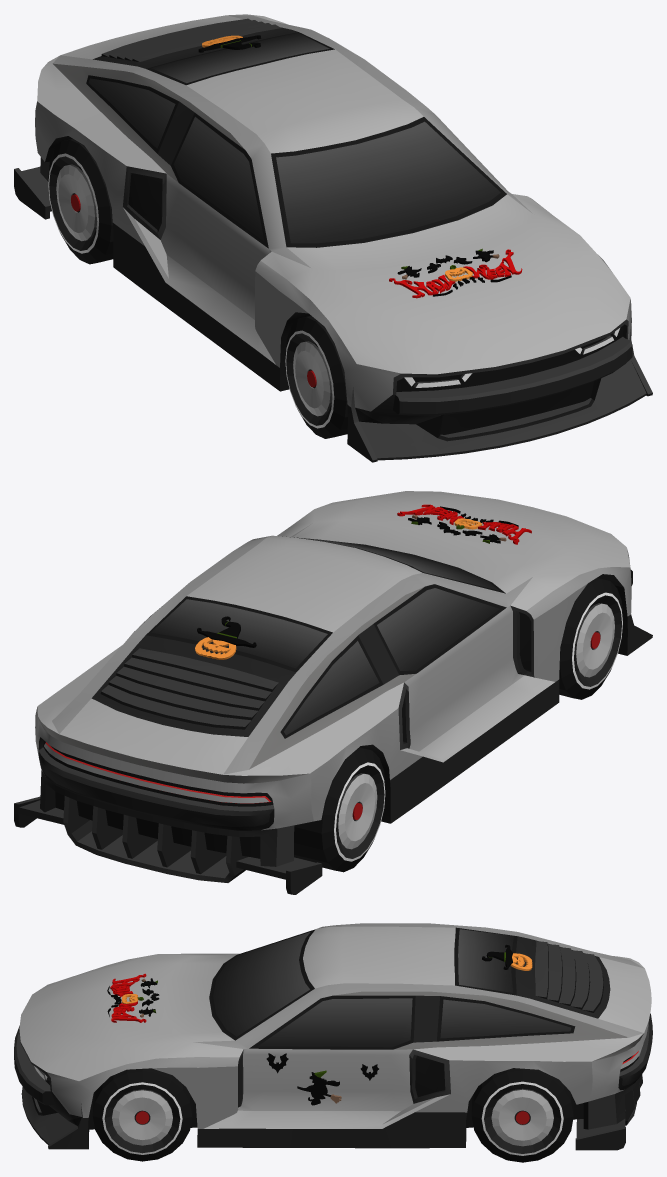
The model's file is car6 (1).fbx.
3 views of the same model, one above another, from view 1: azimuth 30°, elevation 25°; view 2: azimuth 150°, elevation 25°; view 3: azimuth 270°, elevation 25° (orthographic). The views are drawn at different scales.
Parts seen in each view (by area): view 1: Happy_Halloween_07_Halloween_props1_0, RearRightWheel_TextureAtlas_0_1, FrontRightWheel_TextureAtlas_0; view 2: Happy_Halloween_07_Halloween_props1_0, RearRightWheel_TextureAtlas_0_1, FrontRightWheel_TextureAtlas_0; view 3: Happy_Halloween_07_Halloween_props1_0, RearLeftWheel_TextureAtlas_0_1, FrontLeftWheel_TextureAtlas_0_1.
Boxes of the visible parts, left/top/right/bottom form: Happy_Halloween_07_Halloween_props1_0: left=14, top=14, right=652, bottom=462; RearRightWheel_TextureAtlas_0_1: left=48, top=138, right=113, bottom=264; FrontRightWheel_TextureAtlas_0: left=285, top=315, right=347, bottom=438; Happy_Halloween_07_Halloween_props1_0: left=14, top=491, right=652, bottom=894; RearRightWheel_TextureAtlas_0_1: left=294, top=747, right=385, bottom=872; FrontRightWheel_TextureAtlas_0: left=559, top=577, right=623, bottom=699; Happy_Halloween_07_Halloween_props1_0: left=14, top=923, right=652, bottom=1150; RearLeftWheel_TextureAtlas_0_1: left=471, top=1068, right=573, bottom=1162; FrontLeftWheel_TextureAtlas_0_1: left=92, top=1068, right=192, bottom=1161.
Bounding box in the file's own units: 211 × 136 × 500.
Materials: 2 (2 with a texture image).
